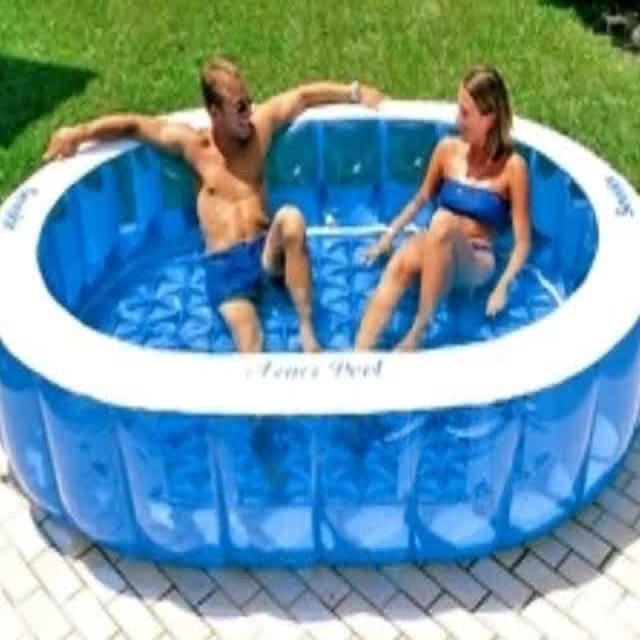other: (32, 290, 608, 408), (2, 160, 80, 372), (572, 131, 623, 350)
